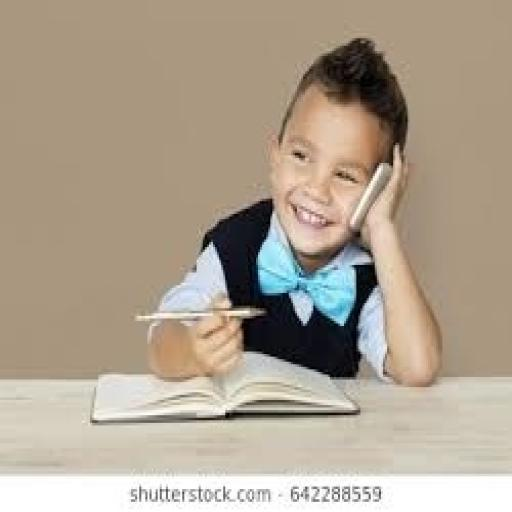calling: (144, 36, 444, 387)
